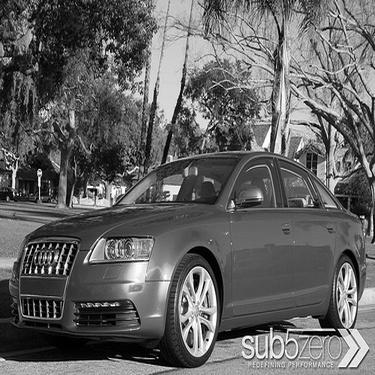car: (1, 143, 370, 364)
